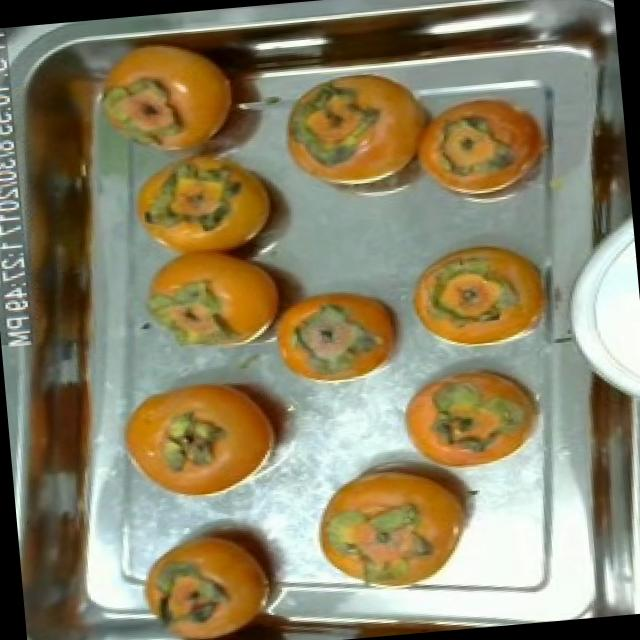Fruit: (100, 354, 309, 523), (260, 63, 468, 230), (297, 442, 502, 598), (118, 502, 320, 640), (400, 78, 577, 226), (383, 348, 558, 486), (390, 223, 566, 357), (255, 272, 423, 399)
